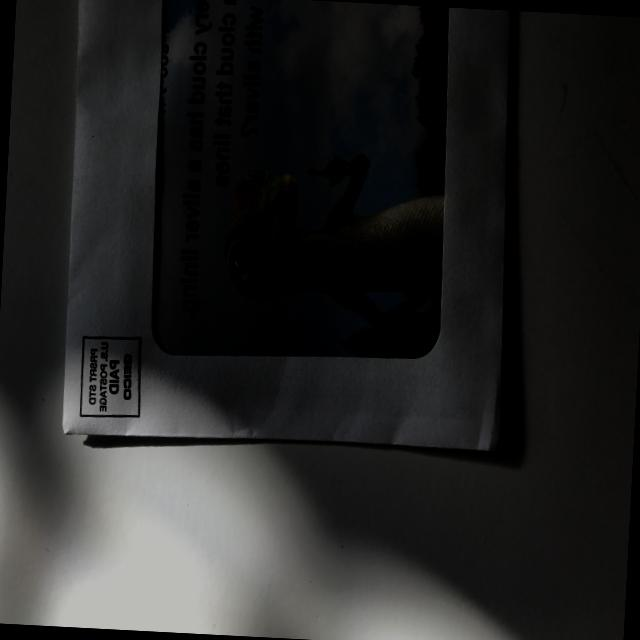Paper: (57, 0, 528, 464)
